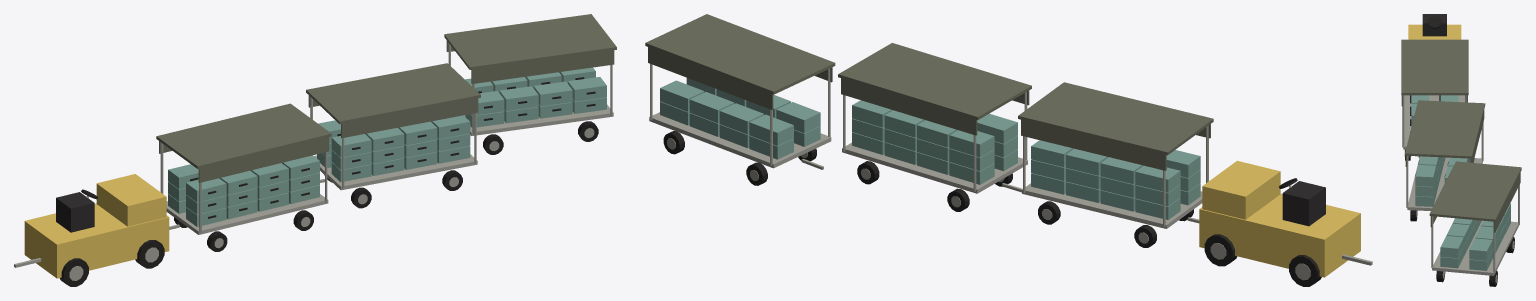
Rendered from airport_baggage.glb.
3 renders of one model, left to right at view 1: azimuth 30°, elevation 25°; view 2: azimuth 150°, elevation 25°; view 3: azimuth 270°, elevation 25°, orthographic. The views are drawn at different scales.
Parts seen in each view (by area): view 1: airport_baggage; view 2: airport_baggage; view 3: airport_baggage.
Boxes of the visible parts, box(x1,y1,x2,y2) form: airport_baggage: box(14, 14, 616, 286); airport_baggage: box(645, 14, 1372, 286); airport_baggage: box(1401, 14, 1521, 286).
Size of the model in its own units: 14.19 by 2.06 by 2.95.
